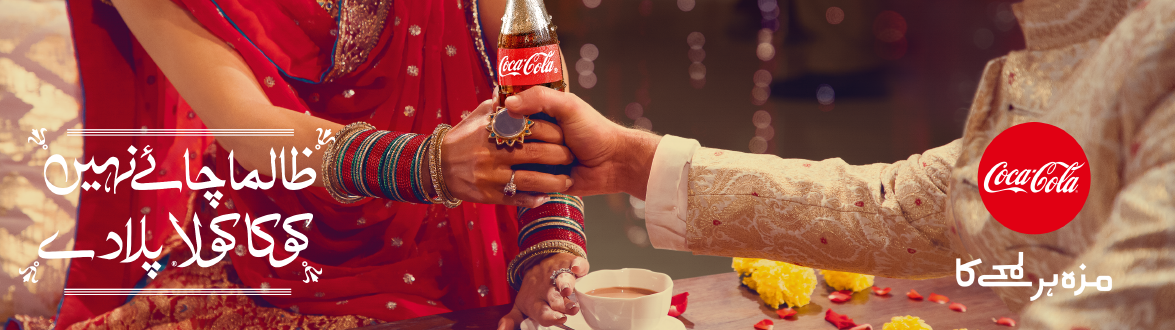Coca-Cola: (472, 1, 580, 230)
